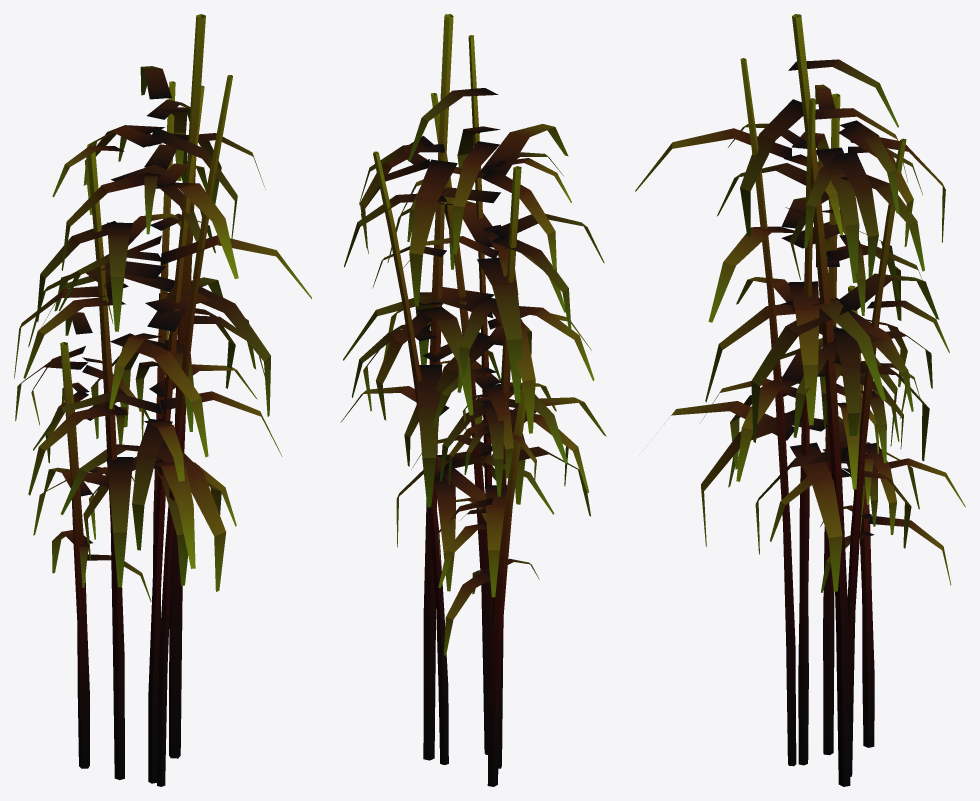
File: bamboo_a.glb
3 renders of one model, left to right at view 1: azimuth 30°, elevation 25°; view 2: azimuth 150°, elevation 25°; view 3: azimuth 270°, elevation 25°, orthographic. The views are drawn at different scales.
Parts seen in each view (by area): view 1: bamboo_a; view 2: bamboo_a; view 3: bamboo_a.
Boxes of the visible parts, left/top/right/bottom form: bamboo_a: left=14, top=14, right=311, bottom=786; bamboo_a: left=340, top=14, right=606, bottom=786; bamboo_a: left=635, top=14, right=965, bottom=786.
Bounding box in the file's own units: 1.67 × 4.87 × 1.89.
Materials: 1 (1 with a texture image).
